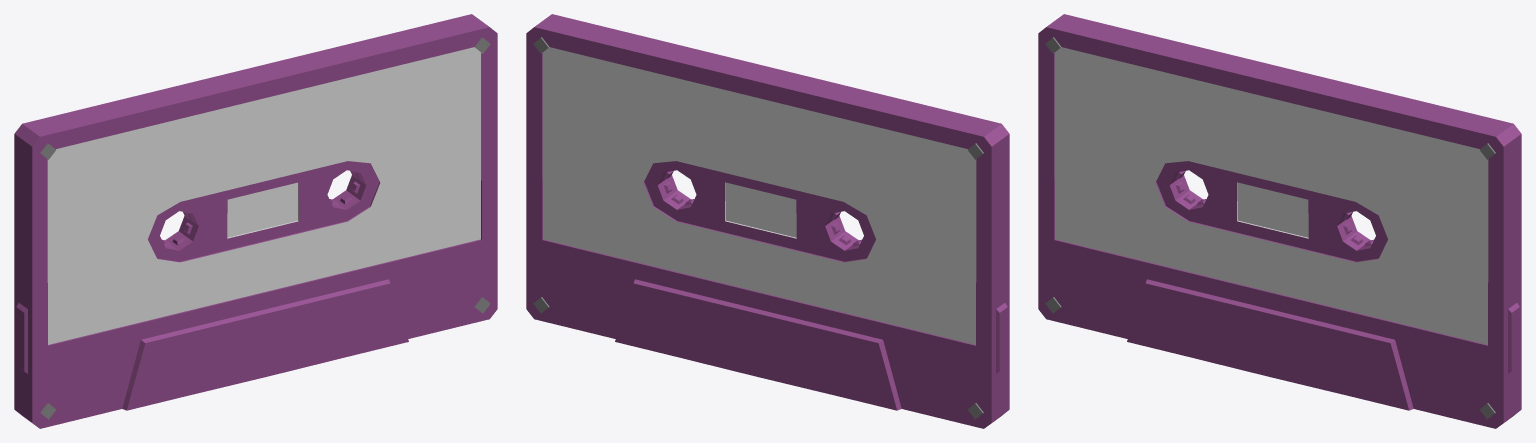
File: Cassette.fbx
3 renders of one model, left to right at view 1: azimuth 30°, elevation 25°; view 2: azimuth 150°, elevation 25°; view 3: azimuth 330°, elevation 25°, orthographic.
Visible parts, largest first — view 1: Cassette_2; view 2: Cassette_2; view 3: Cassette_2.
Boxes of the visible parts, x1=… form: Cassette_2: x1=14, y1=14, x2=497, y2=428; Cassette_2: x1=526, y1=14, x2=1009, y2=428; Cassette_2: x1=1038, y1=14, x2=1521, y2=428.
Bounding box in the file's own units: 304 × 180 × 26.67.
